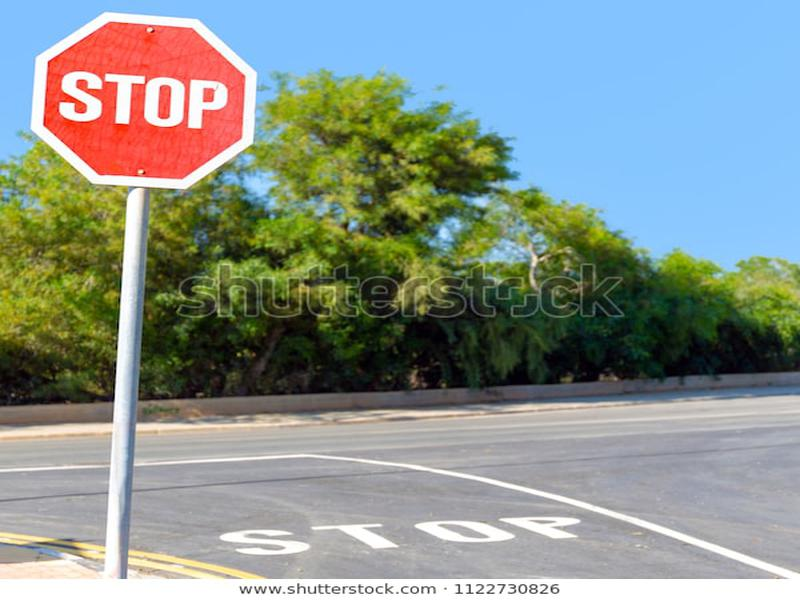stop: (28, 9, 263, 186)
